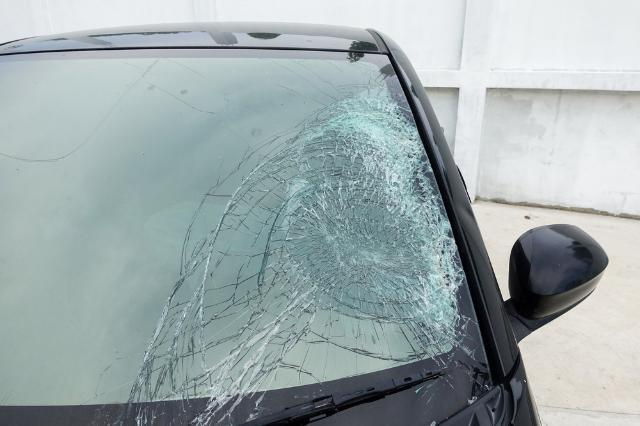glass shatter: (0, 47, 494, 426)
